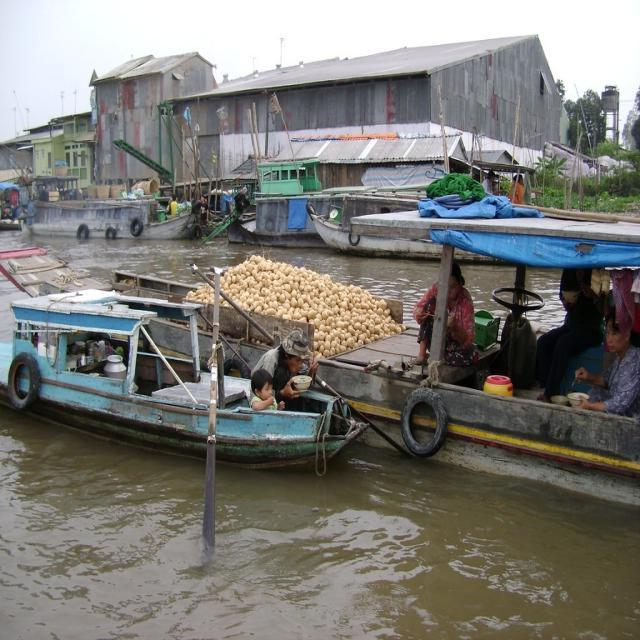boat: (0, 204, 640, 504), (0, 292, 342, 470), (10, 192, 194, 250)
